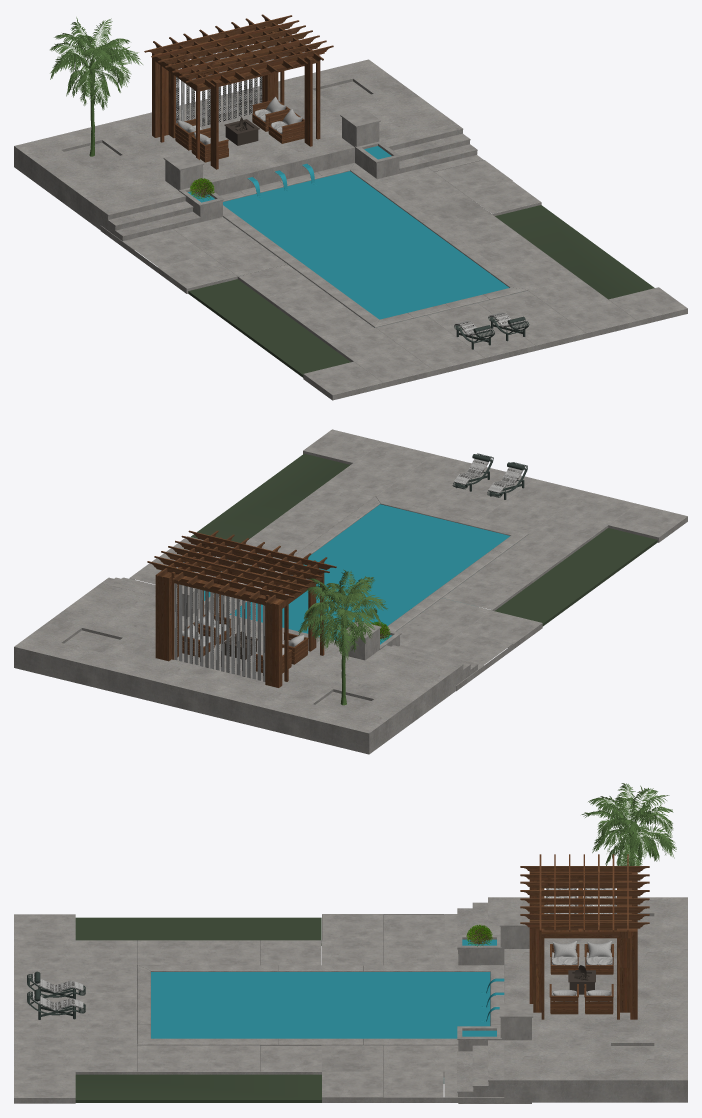
Rendered from pool-18.glb.
3 renders of one model, top to bottom at view 1: azimuth 30°, elevation 25°; view 2: azimuth 150°, elevation 25°; view 3: azimuth 270°, elevation 25°, orthographic. The views are drawn at different scales.
Visible parts, largest first — view 1: Pool | Limestone terrace, Pool | Pool water, Pool | Warm timber pergola, Pool | Planting beds, Pool | Palm canopy, Pool | Ivory outdoor upholstery, Pool | Graphite furniture frames, Pool | Fire bowl; view 2: Pool | Limestone terrace, Pool | Pool water, Pool | Warm timber pergola, Pool | Planting beds, Pool | Ivory outdoor upholstery, Pool | Palm canopy, Pool | Graphite furniture frames; view 3: Pool | Limestone terrace, Pool | Pool water, Pool | Warm timber pergola, Pool | Planting beds, Pool | Palm canopy, Pool | Ivory outdoor upholstery, Pool | Graphite furniture frames, Pool | Fire bowl.
Boxes of the visible parts, bbox=[...] form: Pool | Limestone terrace: bbox=[14, 59, 687, 400]; Pool | Pool water: bbox=[188, 146, 509, 319]; Pool | Warm timber pergola: bbox=[144, 14, 333, 169]; Pool | Planting beds: bbox=[188, 205, 654, 377]; Pool | Palm canopy: bbox=[50, 17, 142, 156]; Pool | Ivory outdoor upholstery: bbox=[176, 36, 525, 335]; Pool | Graphite furniture frames: bbox=[454, 316, 529, 349]; Pool | Fire bowl: bbox=[224, 117, 259, 145]; Pool | Limestone terrace: bbox=[14, 429, 687, 754]; Pool | Pool water: bbox=[204, 504, 509, 644]; Pool | Warm timber pergola: bbox=[147, 530, 336, 687]; Pool | Planting beds: bbox=[191, 453, 657, 626]; Pool | Ivory outdoor upholstery: bbox=[174, 457, 525, 681]; Pool | Palm canopy: bbox=[298, 569, 387, 705]; Pool | Graphite furniture frames: bbox=[452, 453, 527, 499]; Pool | Limestone terrace: bbox=[14, 897, 687, 1103]; Pool | Pool water: bbox=[151, 939, 504, 1038]; Pool | Warm timber pergola: bbox=[520, 854, 649, 1019]; Pool | Planting beds: bbox=[75, 917, 321, 1102]; Pool | Palm canopy: bbox=[581, 783, 676, 872]; Pool | Ivory outdoor upholstery: bbox=[32, 888, 615, 1010]; Pool | Graphite furniture frames: bbox=[27, 971, 85, 1019]; Pool | Fire bowl: bbox=[568, 965, 595, 994].
Size of the model in its own units: 2.32 by 1.14 by 3.6.
Materials: 12 (4 with a texture image).
